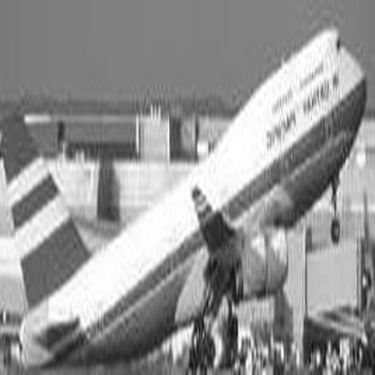airplane: (5, 3, 370, 372)
